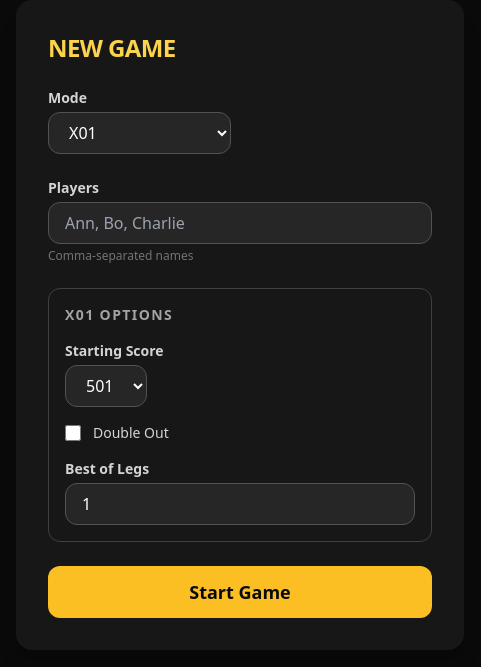
Test: Setup Count-Up › offers Count-Up and reveals the rounds input when selected
Select "Count-Up" in the dropdown labelled "Mode": (140, 133) x1=48 y1=112 x2=231 y2=154
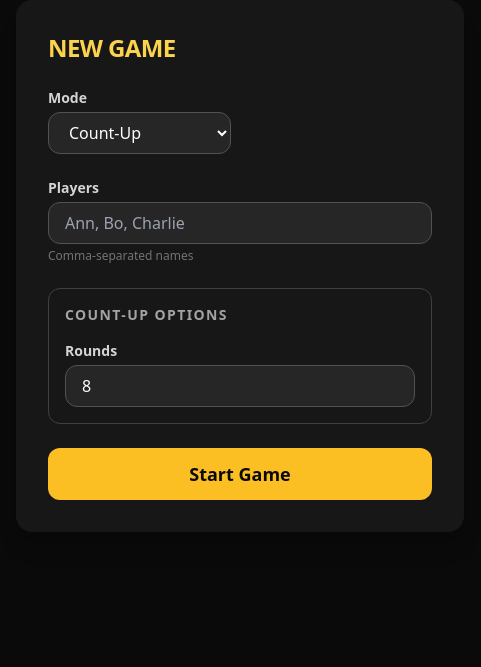
Check: the number field labelled "Rounds" is shown, box x1=65 y1=365 x2=415 y2=407
